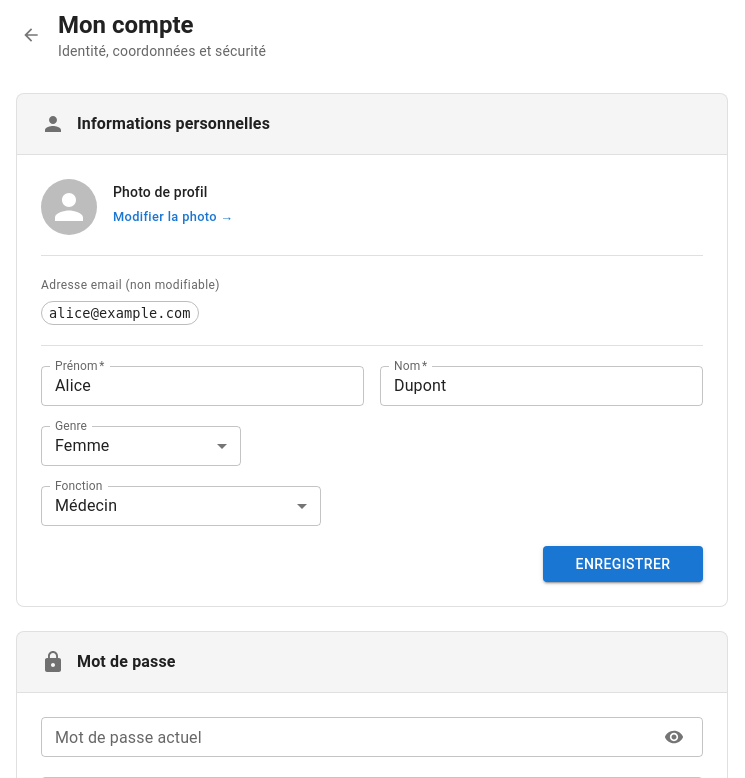
Test: ProfileAccountPage — validation infos personnelles › bloque si prénom < 2 caractères
This screenshot has width=745, height=778.
Step 1. Replace the text in the field showing "Alice" with "A" → (202, 386), box [41, 366, 364, 406]
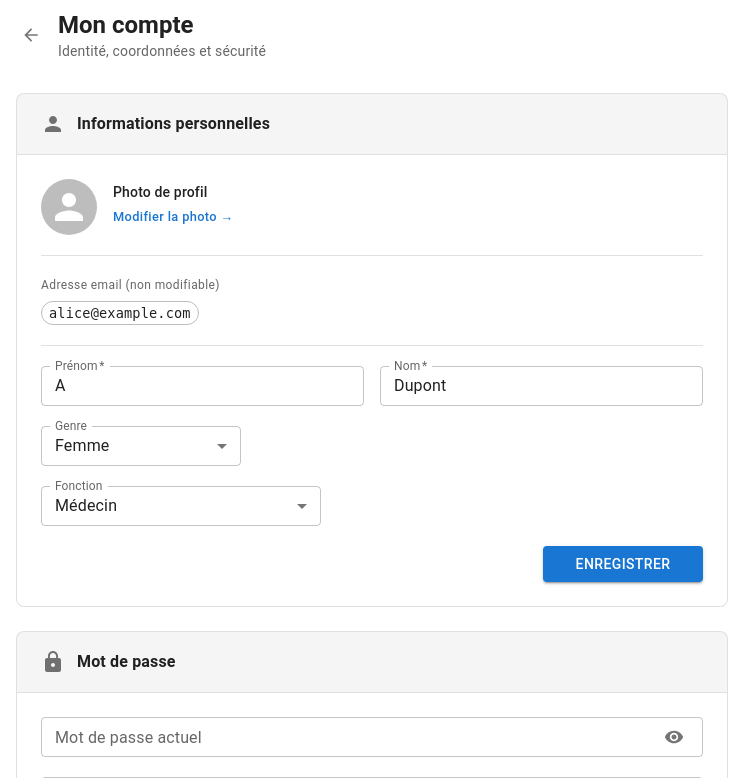
Step 2. Click the button "Enregistrer" → (623, 564), box [543, 546, 703, 582]
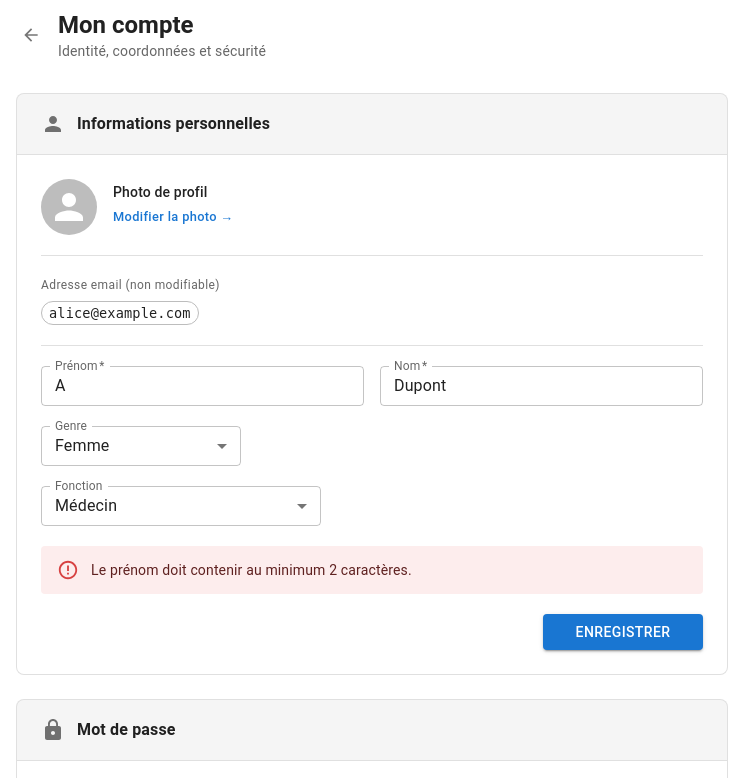
Now the text "Le prénom doit contenir au minimum 2 caractères." is shown, box [91, 562, 412, 578]
